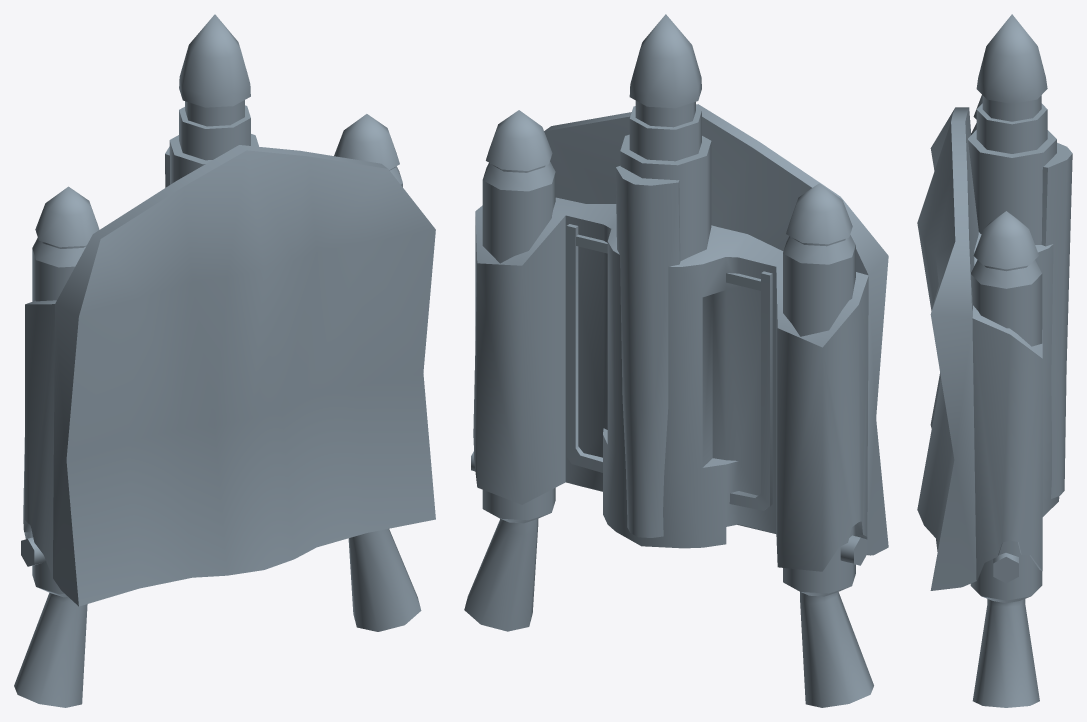
The model's file is jetpack.obj.
3 renders of one model, left to right at view 1: azimuth 30°, elevation 25°; view 2: azimuth 150°, elevation 25°; view 3: azimuth 270°, elevation 25°, orthographic. The views are drawn at different scales.
Visible parts, largest first — view 1: jetpack; view 2: jetpack; view 3: jetpack.
Boxes of the visible parts, x1=… form: jetpack: x1=14, y1=14, x2=435, y2=707; jetpack: x1=464, y1=14, x2=888, y2=707; jetpack: x1=917, y1=14, x2=1072, y2=707.
Bounding box in the file's own units: 14.26 × 21.96 × 5.02.
